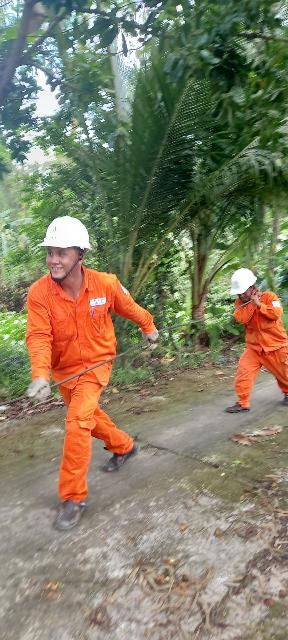gloves: (16, 370, 59, 410), (134, 318, 169, 352)
helmet: (34, 201, 107, 255), (224, 262, 261, 298)
shoes: (39, 489, 95, 534), (95, 437, 149, 473), (221, 395, 259, 418)
